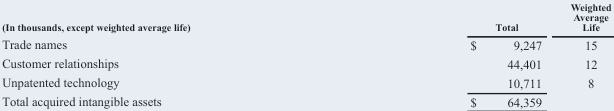table: (1, 1, 610, 108)
table column: (1, 1, 329, 108), (329, 1, 555, 108), (555, 1, 610, 108)
table column header: (1, 1, 610, 34)
table row: (1, 1, 610, 34), (1, 34, 610, 53), (1, 53, 610, 72), (1, 72, 610, 91), (1, 91, 610, 108)
